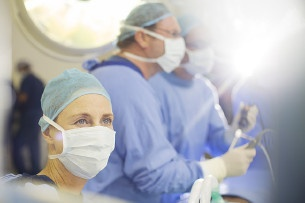Mask: (55, 111, 119, 173)
